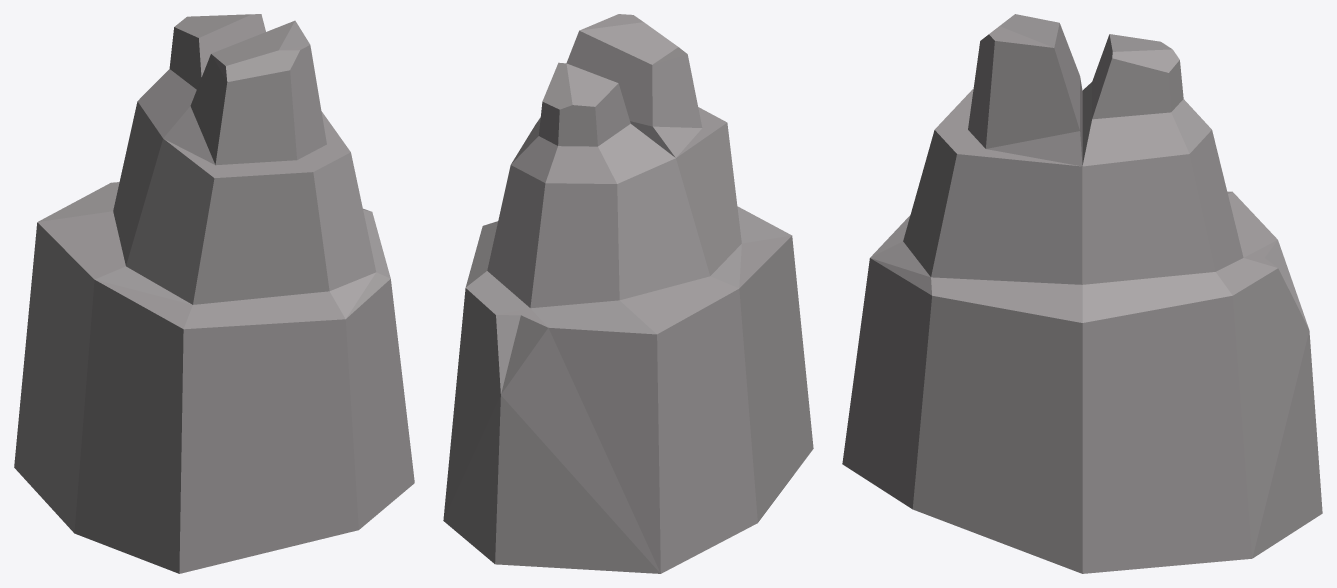
Rendered from Rock_Round_l_04.fbx.
The picture shows the model from 3 angles, left to right: view 1: azimuth 30°, elevation 25°; view 2: azimuth 150°, elevation 25°; view 3: azimuth 270°, elevation 25°; orthographic projection. The views are drawn at different scales.
Visible parts, largest first — view 1: Rock_Round_l_04; view 2: Rock_Round_l_04; view 3: Rock_Round_l_04.
Boxes of the visible parts, left/top/right/bottom form: Rock_Round_l_04: left=14, top=14, right=414, bottom=573; Rock_Round_l_04: left=443, top=14, right=813, bottom=573; Rock_Round_l_04: left=842, top=14, right=1322, bottom=573.
Bounding box in the file's own units: 1.51 × 2.15 × 1.92.
